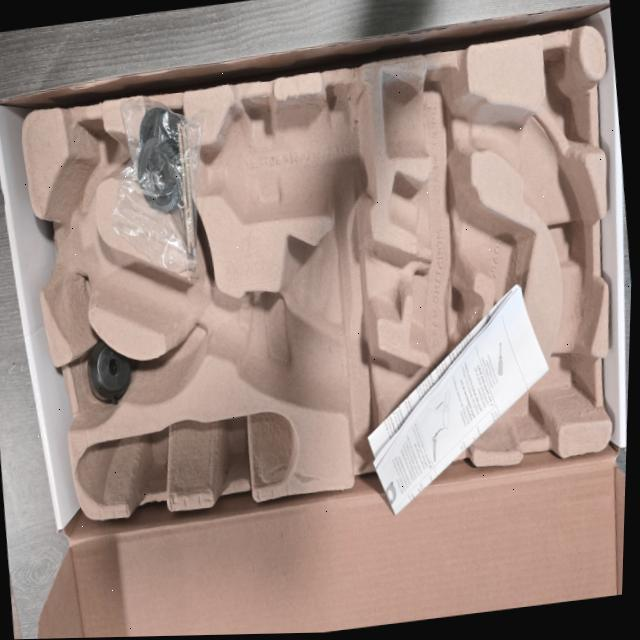1m: (30, 69, 600, 445)
2m: (388, 171, 532, 367)
3m: (189, 86, 376, 225)
4m: (72, 409, 297, 506)
5: (86, 341, 130, 406)
6m: (53, 117, 121, 221)
7: (110, 100, 203, 276)
8: (366, 282, 548, 515)
